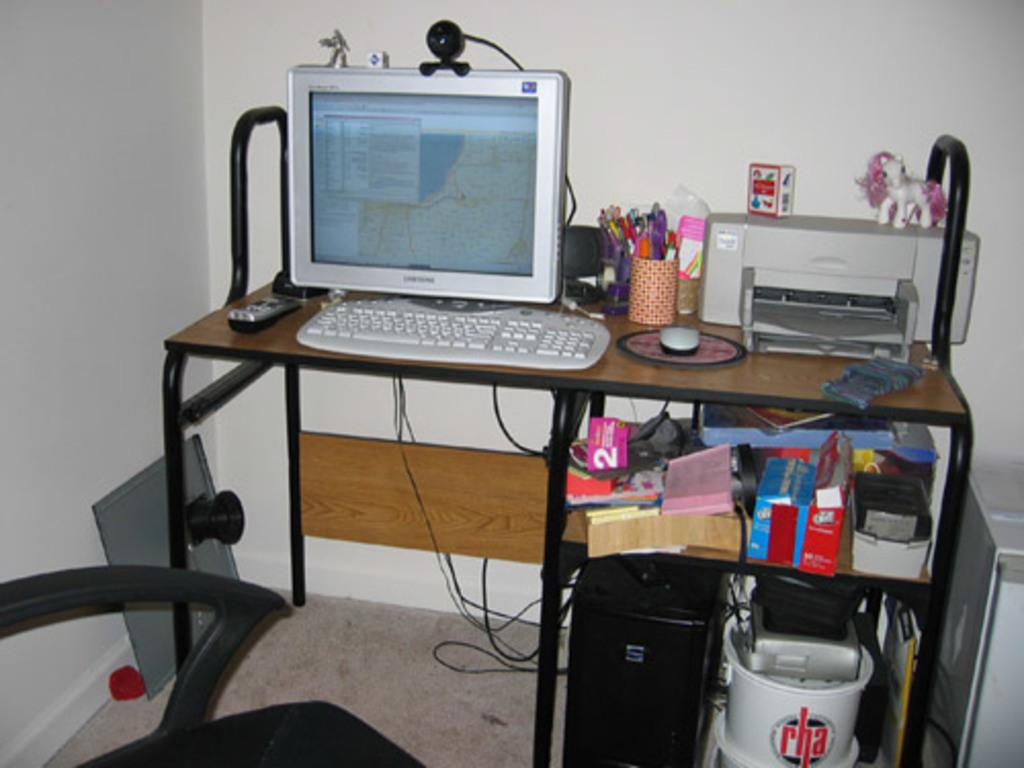Computer-keyboard: (297, 297, 608, 371)
Computer-monitor: (231, 63, 590, 371)
